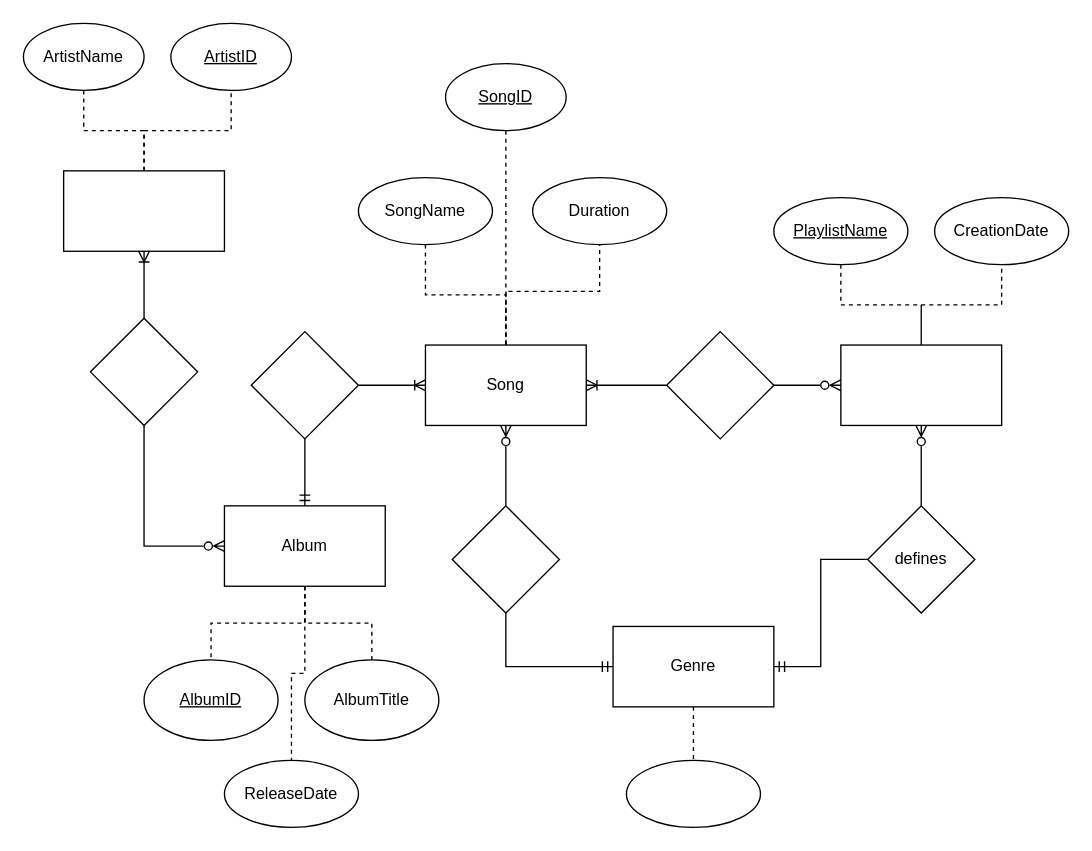
Some shapes in this 1092 by 851 pixel diagram are drawn without their labels. Each missing label, with the box of its shape:
Artist: (62, 170, 224, 251)
contains: (250, 330, 358, 439)
GenreName: (625, 759, 760, 827)
has: (451, 505, 559, 613)
is in: (665, 330, 774, 439)
makes: (89, 317, 198, 425)
Playlist: (840, 344, 1002, 425)
